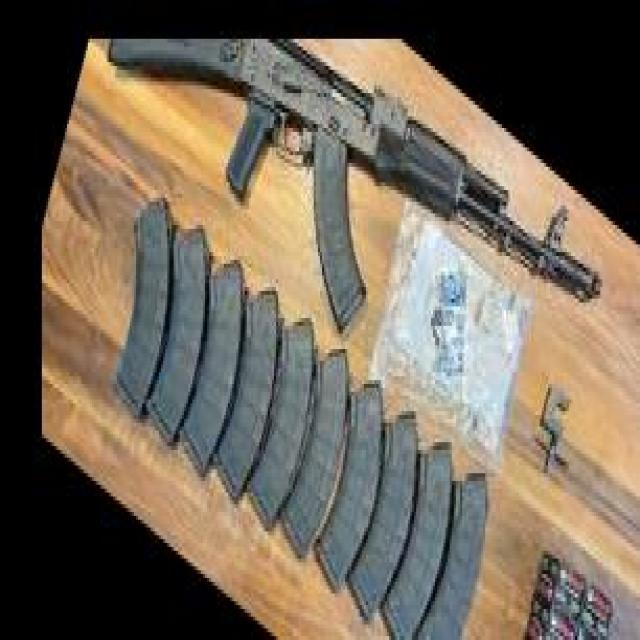weapon: (106, 40, 604, 341)
